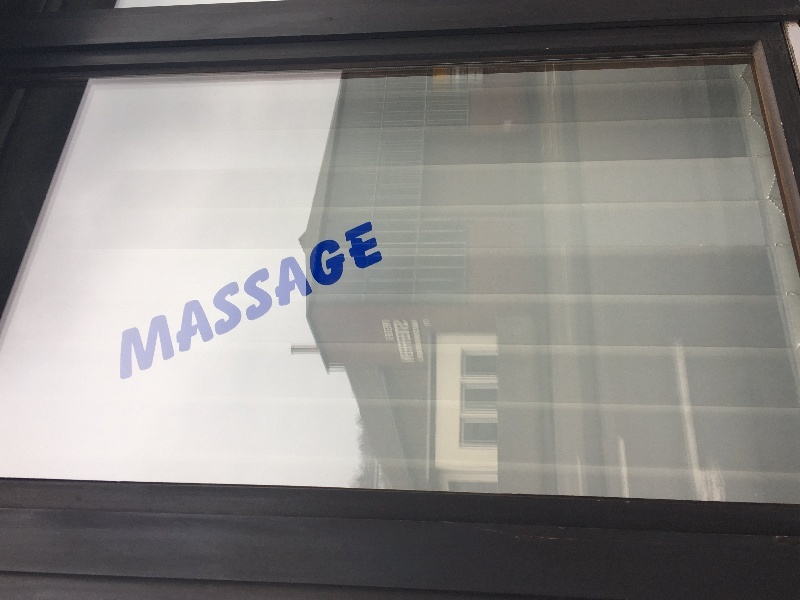text: (129, 220, 144, 384), (145, 220, 160, 384), (161, 220, 176, 384), (177, 220, 192, 384), (193, 220, 208, 384), (209, 220, 224, 384), (225, 220, 240, 384), (241, 220, 256, 384), (257, 220, 272, 384), (273, 220, 288, 384), (289, 220, 304, 384), (305, 220, 320, 384), (321, 220, 336, 384), (337, 220, 352, 384), (353, 220, 368, 384), (369, 220, 383, 384), (121, 220, 128, 384), (401, 319, 415, 365), (418, 320, 432, 365), (393, 319, 400, 365), (385, 320, 396, 343), (422, 319, 432, 330), (381, 320, 384, 343)
